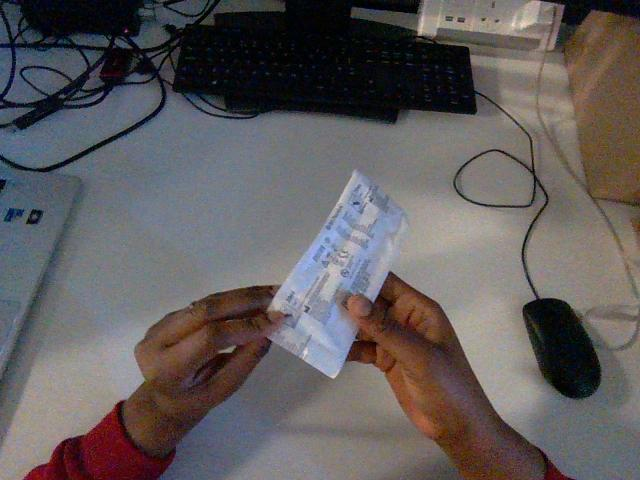syringe: (269, 170, 407, 377)
